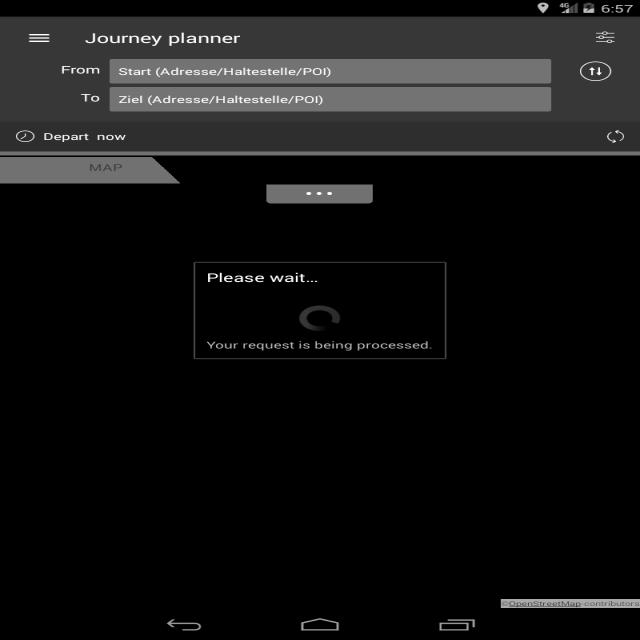EditText: (106, 56, 554, 84), (106, 86, 554, 114)
ImageButton: (268, 186, 373, 204), (575, 61, 615, 82), (605, 126, 631, 146), (592, 28, 622, 44), (24, 30, 54, 45)
Spinner: (294, 304, 347, 334)
TextView: (84, 28, 247, 48), (205, 338, 437, 352), (202, 270, 324, 284), (42, 130, 128, 142), (57, 62, 103, 77), (76, 91, 103, 105)
